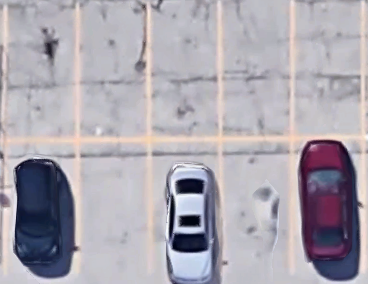Occupied: (292, 138, 365, 273), (148, 138, 221, 272), (5, 140, 78, 271)
Vacant: (4, 5, 77, 140), (219, 6, 293, 139), (76, 5, 149, 139), (76, 140, 150, 271), (148, 5, 220, 139), (220, 139, 292, 273), (292, 6, 364, 137)
